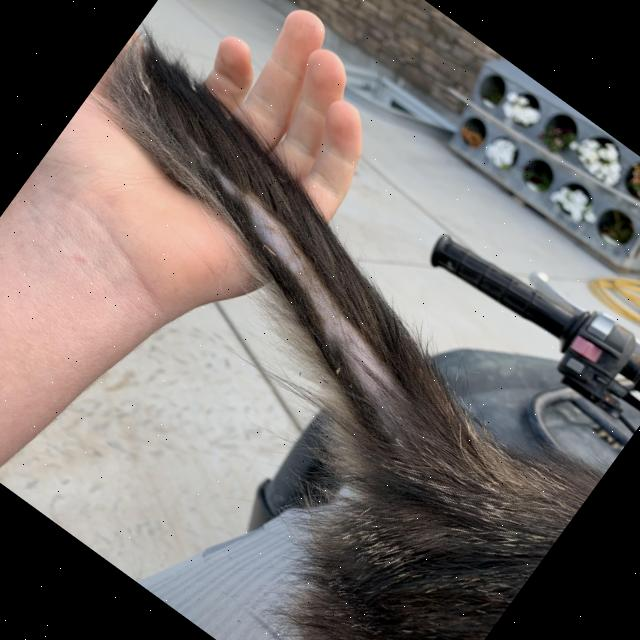cat-hairloss: (154, 142, 458, 406)
